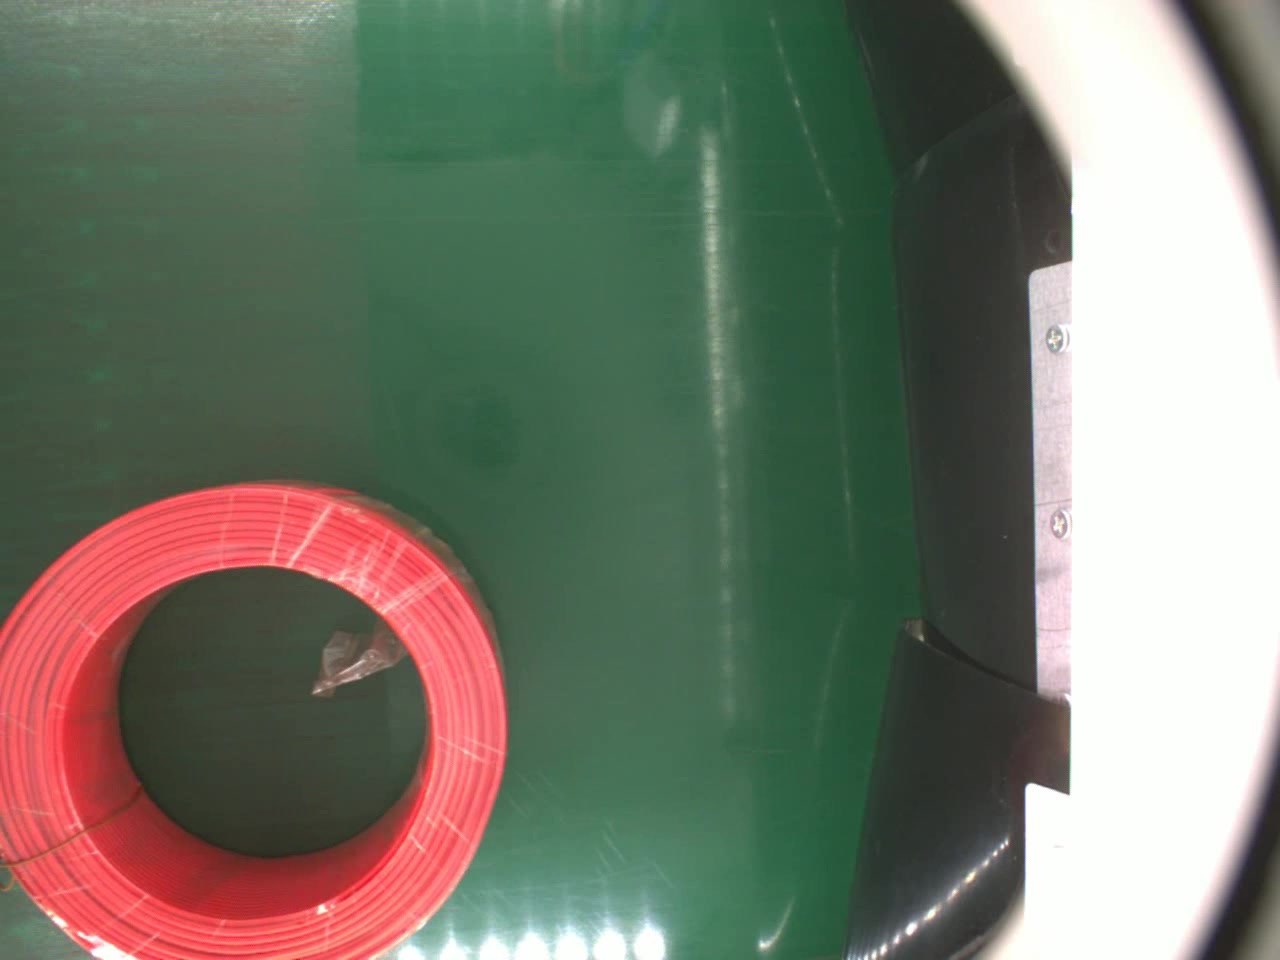red: (0, 481, 511, 960)
